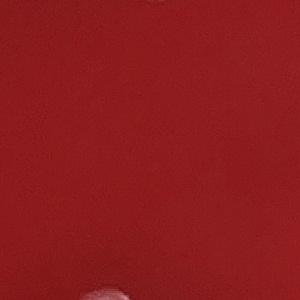colony: (72, 284, 138, 300)
